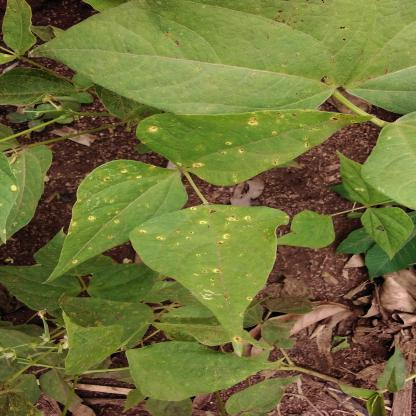Beans_Rust: (131, 204, 286, 351), (138, 110, 346, 189), (51, 160, 188, 270), (63, 296, 158, 378)
